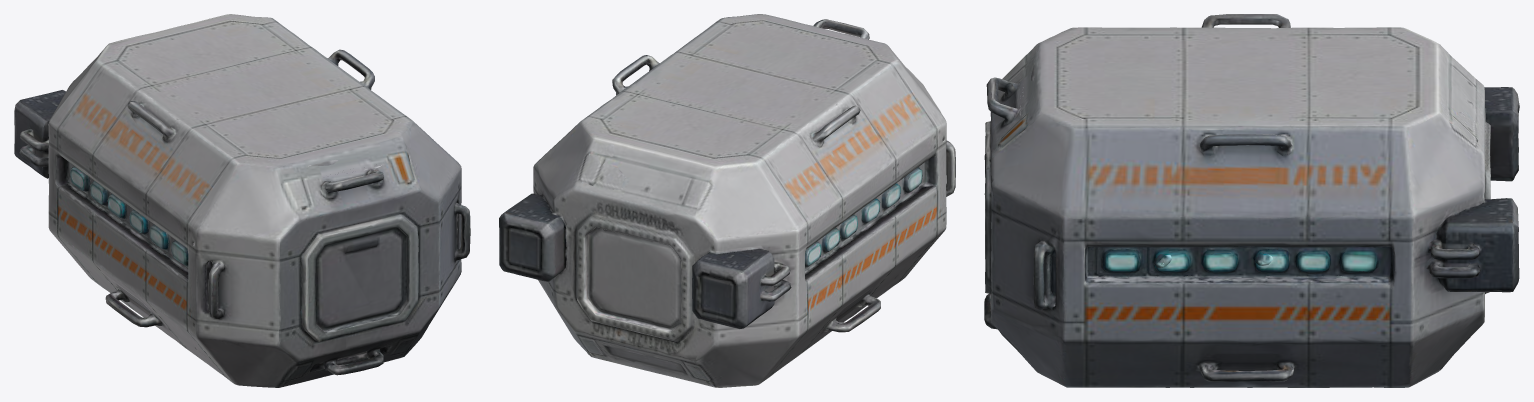
3 views of the same model, side by side, from view 1: azimuth 30°, elevation 25°; view 2: azimuth 150°, elevation 25°; view 3: azimuth 270°, elevation 25° (orthographic). The views are drawn at different scales.
Size of the model in its own units: 0.6897 by 0.5431 by 1.
Materials: 1 (1 with a texture image).
